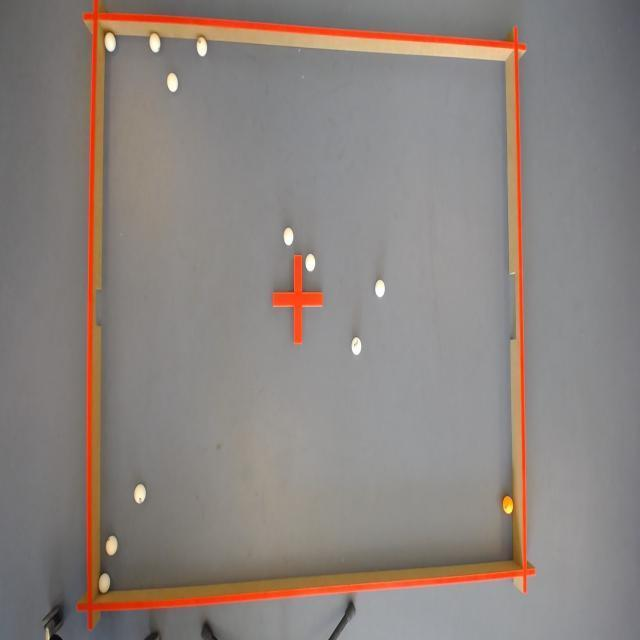orange: (502, 496, 514, 516)
white: (96, 572, 112, 594), (146, 34, 160, 56), (102, 33, 116, 53), (372, 279, 386, 299), (304, 252, 316, 274), (107, 534, 119, 556), (166, 72, 178, 93), (282, 226, 294, 246), (134, 484, 146, 504), (195, 38, 207, 56), (349, 336, 361, 354)
